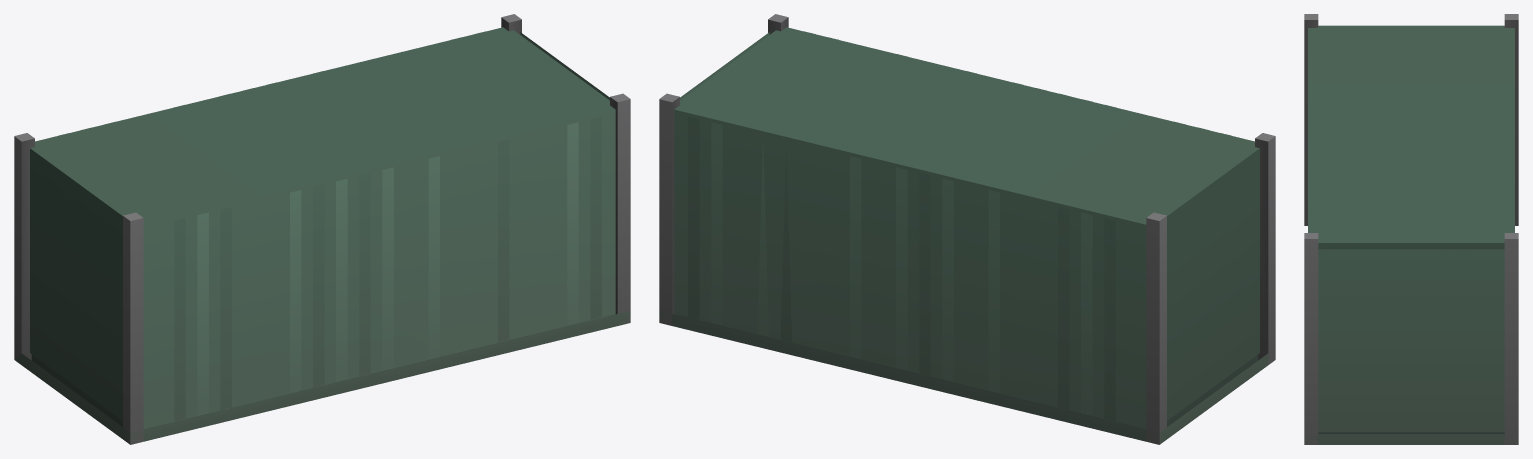
File: box_green.lod.glb
The picture shows the model from 3 angles, left to right: view 1: azimuth 30°, elevation 25°; view 2: azimuth 150°, elevation 25°; view 3: azimuth 270°, elevation 25°; orthographic projection. The views are drawn at different scales.
Visible parts, largest first — view 1: box_green; view 2: box_green; view 3: box_green.
Part boxes in pixels (x1,y1,x2,y2): box_green: (14,14,630,444); box_green: (659,14,1275,444); box_green: (1304,14,1518,444).
Size of the model in its own units: 6.06 by 2.59 by 2.44.
